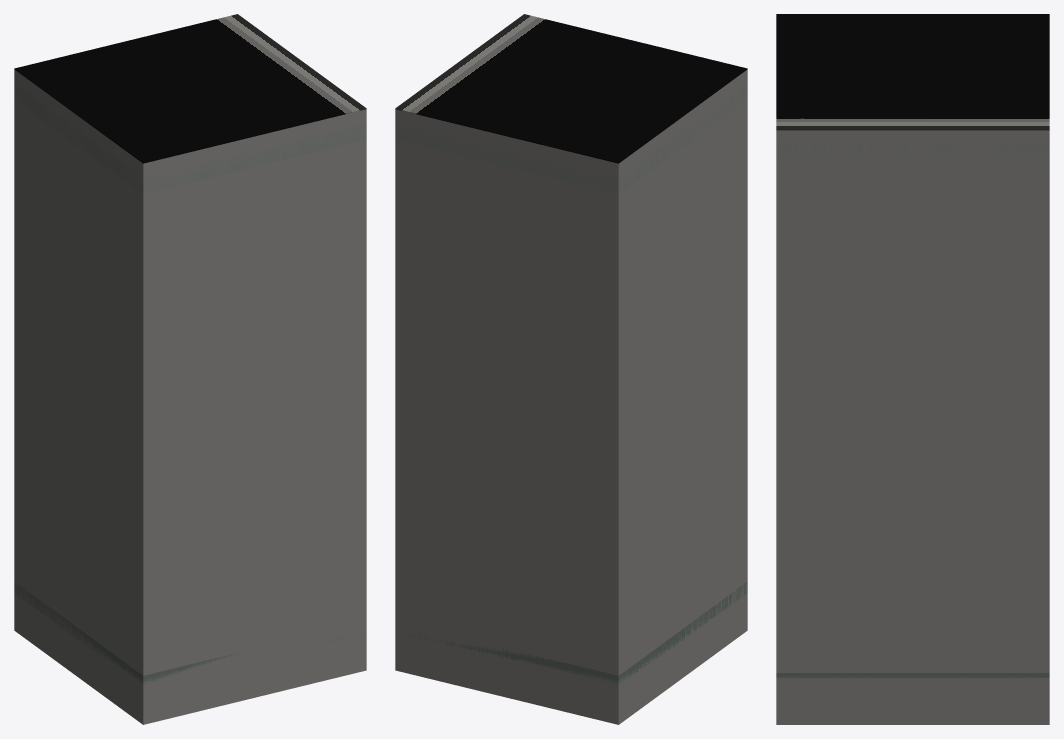
File: CMU3DInteriorVehiclePizzaVanLeft2.glb
3 renders of one model, left to right at view 1: azimuth 30°, elevation 25°; view 2: azimuth 150°, elevation 25°; view 3: azimuth 270°, elevation 25°, orthographic. The views are drawn at different scales.
Visible parts, largest first — view 1: cabin bulkhead, cabin bulkhead source finish, upper armor trim, lower armor trim; view 2: cabin bulkhead, cabin bulkhead source finish, upper armor trim, lower armor trim; view 3: cabin bulkhead, cabin bulkhead source finish, lower armor trim, upper armor trim.
Boxes of the visible parts, x1,y1,x2,y2 form: cabin bulkhead: (14,69,366,724); cabin bulkhead source finish: (14,14,366,163); upper armor trim: (14,83,366,193); lower armor trim: (14,582,366,684); cabin bulkhead: (395,69,747,724); cabin bulkhead source finish: (395,14,747,163); upper armor trim: (395,83,747,193); lower armor trim: (401,582,747,684); cabin bulkhead: (776,130,1049,724); cabin bulkhead source finish: (776,14,1049,130); lower armor trim: (776,673,1049,679); upper armor trim: (776,145,1049,162).
Bounding box in the file's own units: 1 × 2.4 × 1.
Materials: 4 (1 with a texture image).
